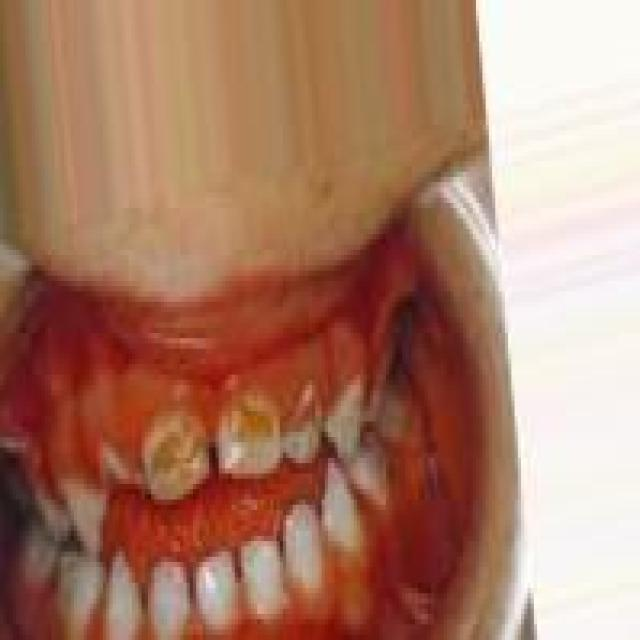caries: (134, 408, 212, 501), (218, 384, 286, 486)
